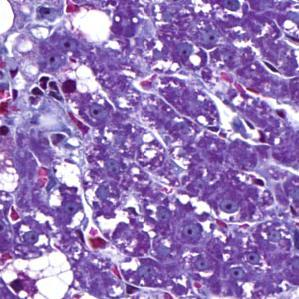ballooning: (6, 247, 76, 296)
